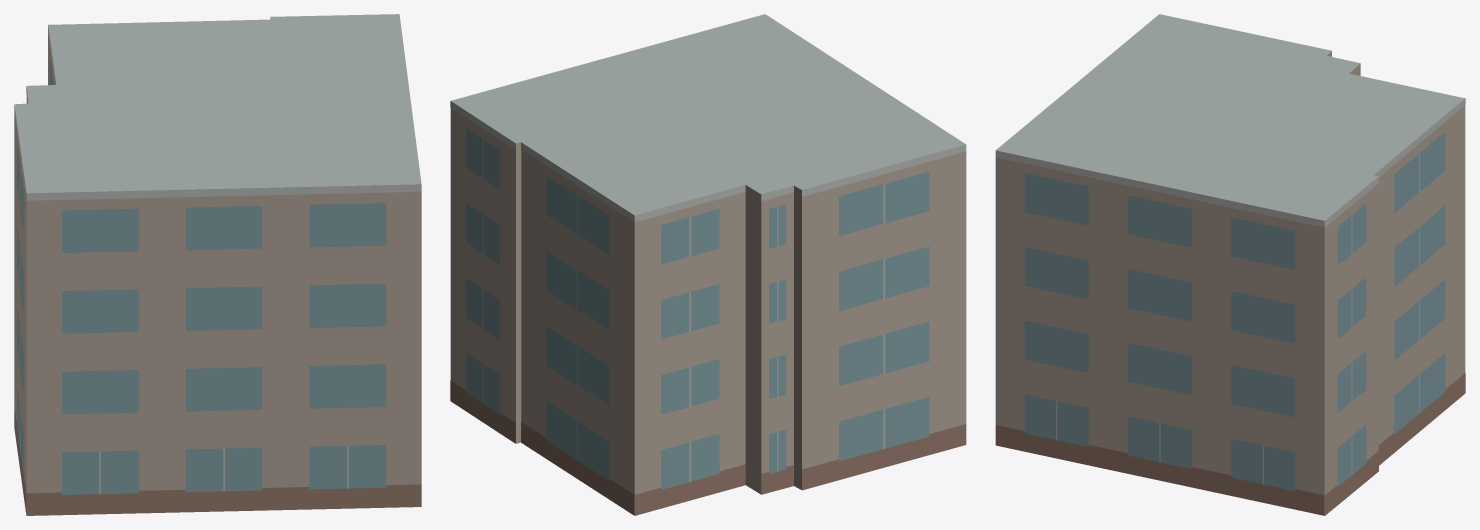
File: survey-upis-32711725.glb
The picture shows the model from 3 angles, left to right: view 1: azimuth 30°, elevation 25°; view 2: azimuth 150°, elevation 25°; view 3: azimuth 270°, elevation 25°; orthographic projection. The views are drawn at different scales.
Parts seen in each view (by area): view 1: survey-upis-32711725.tmp; view 2: survey-upis-32711725.tmp; view 3: survey-upis-32711725.tmp.
Boxes of the visible parts, <box> form: survey-upis-32711725.tmp: <box>14,14,421,515</box>; survey-upis-32711725.tmp: <box>450,14,966,515</box>; survey-upis-32711725.tmp: <box>995,14,1465,515</box>.
Size of the model in its own units: 15.95 by 10.6 by 15.31.
